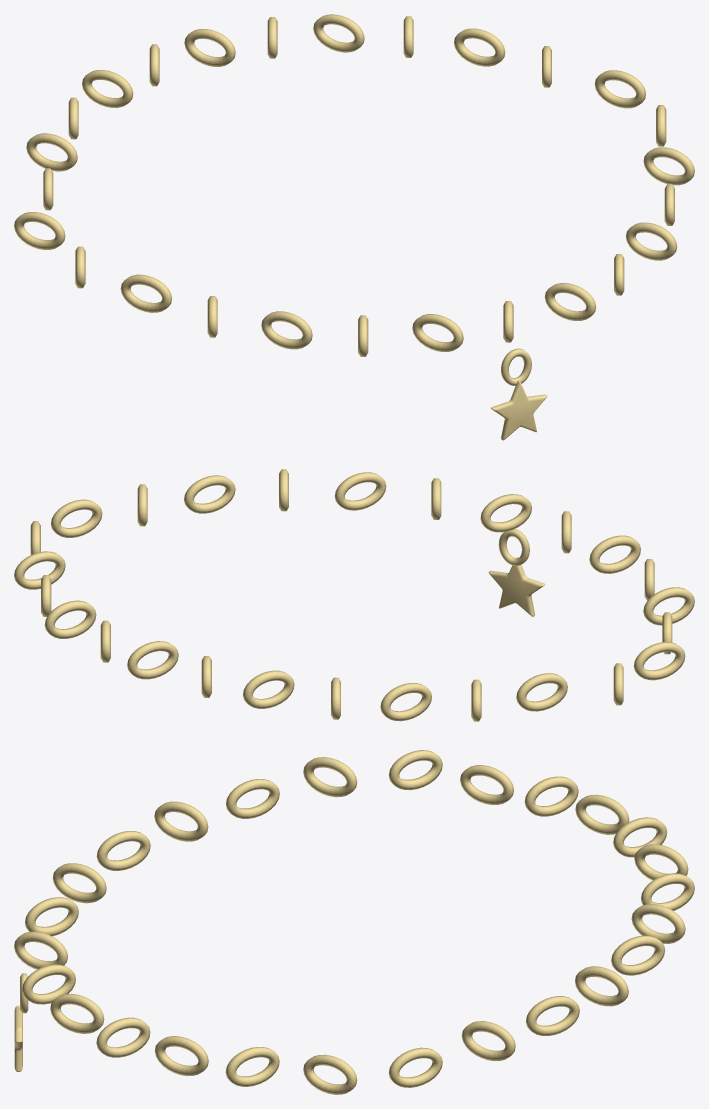
The model's file is chain_gold_chick_tailored.glb.
3 views of the same model, one above another, from view 1: azimuth 30°, elevation 25°; view 2: azimuth 150°, elevation 25°; view 3: azimuth 270°, elevation 25° (orthographic). The views are drawn at different scales.
Visible parts, largest first — view 1: Estrella.003, Eslabón.087, Eslabón.089, Eslabón.101, Eslabón.081, Eslabón.085, Eslabón.083, Eslabón.095, Eslabón.099, Eslabón.103, Eslabón.079, Eslabón.091 (+3 smaller); view 2: Estrella.003, Eslabón.096, Eslabón.090, Eslabón.082, Eslabón.080, Eslabón.078, Eslabón.084, Eslabón.092, Eslabón.094, Eslabón.102, Eslabón.088, Eslabón.098 (+14 smaller); view 3: Eslabón.081, Eslabón.102, Eslabón.080, Eslabón.082, Eslabón.084, Eslabón.100, Eslabón.083, Eslabón.086, Eslabón.095, Eslabón.085, Eslabón.089, Eslabón.097 (+15 smaller).
Part boxes in pixels (x1,y1,x2,y2): Estrella.003: (491, 380, 547, 440); Eslabón.087: (454, 28, 505, 66); Eslabón.089: (313, 14, 364, 52); Eslabón.101: (261, 311, 312, 349); Eslabón.081: (626, 222, 677, 260); Eslabón.085: (594, 70, 645, 108); Eslabón.083: (643, 147, 694, 185); Eslabón.095: (26, 133, 77, 171); Eslabón.099: (120, 274, 171, 312); Eslabón.103: (412, 314, 463, 351); Eslabón.079: (544, 283, 596, 320); Eslabón.091: (184, 29, 235, 66); Estrella.003: (488, 557, 545, 616); Eslabón.096: (516, 673, 567, 711); Eslabón.090: (127, 641, 178, 679); Eslabón.082: (184, 475, 235, 513); Eslabón.080: (334, 472, 386, 510); Eslabón.078: (480, 494, 531, 532); Eslabón.084: (51, 499, 102, 537); Eslabón.092: (243, 670, 294, 708); Eslabón.094: (380, 683, 431, 721); Eslabón.102: (589, 535, 640, 573); Eslabón.088: (44, 600, 96, 638); Eslabón.098: (633, 642, 685, 680); Eslabón.081: (96, 1017, 150, 1057); Eslabón.102: (52, 863, 106, 903); Eslabón.080: (50, 993, 104, 1033); Eslabón.082: (154, 1036, 208, 1075); Eslabón.084: (303, 1054, 357, 1094); Eslabón.100: (154, 801, 208, 841); Eslabón.083: (225, 1047, 279, 1086); Eslabón.086: (461, 1021, 515, 1061); Eslabón.095: (524, 776, 578, 816); Eslabón.085: (389, 1047, 442, 1087); Eslabón.089: (611, 935, 665, 975); Eslabón.097: (388, 750, 442, 790).
Size of the model in its own units: 0.5293 by 0.1488 by 0.488.
